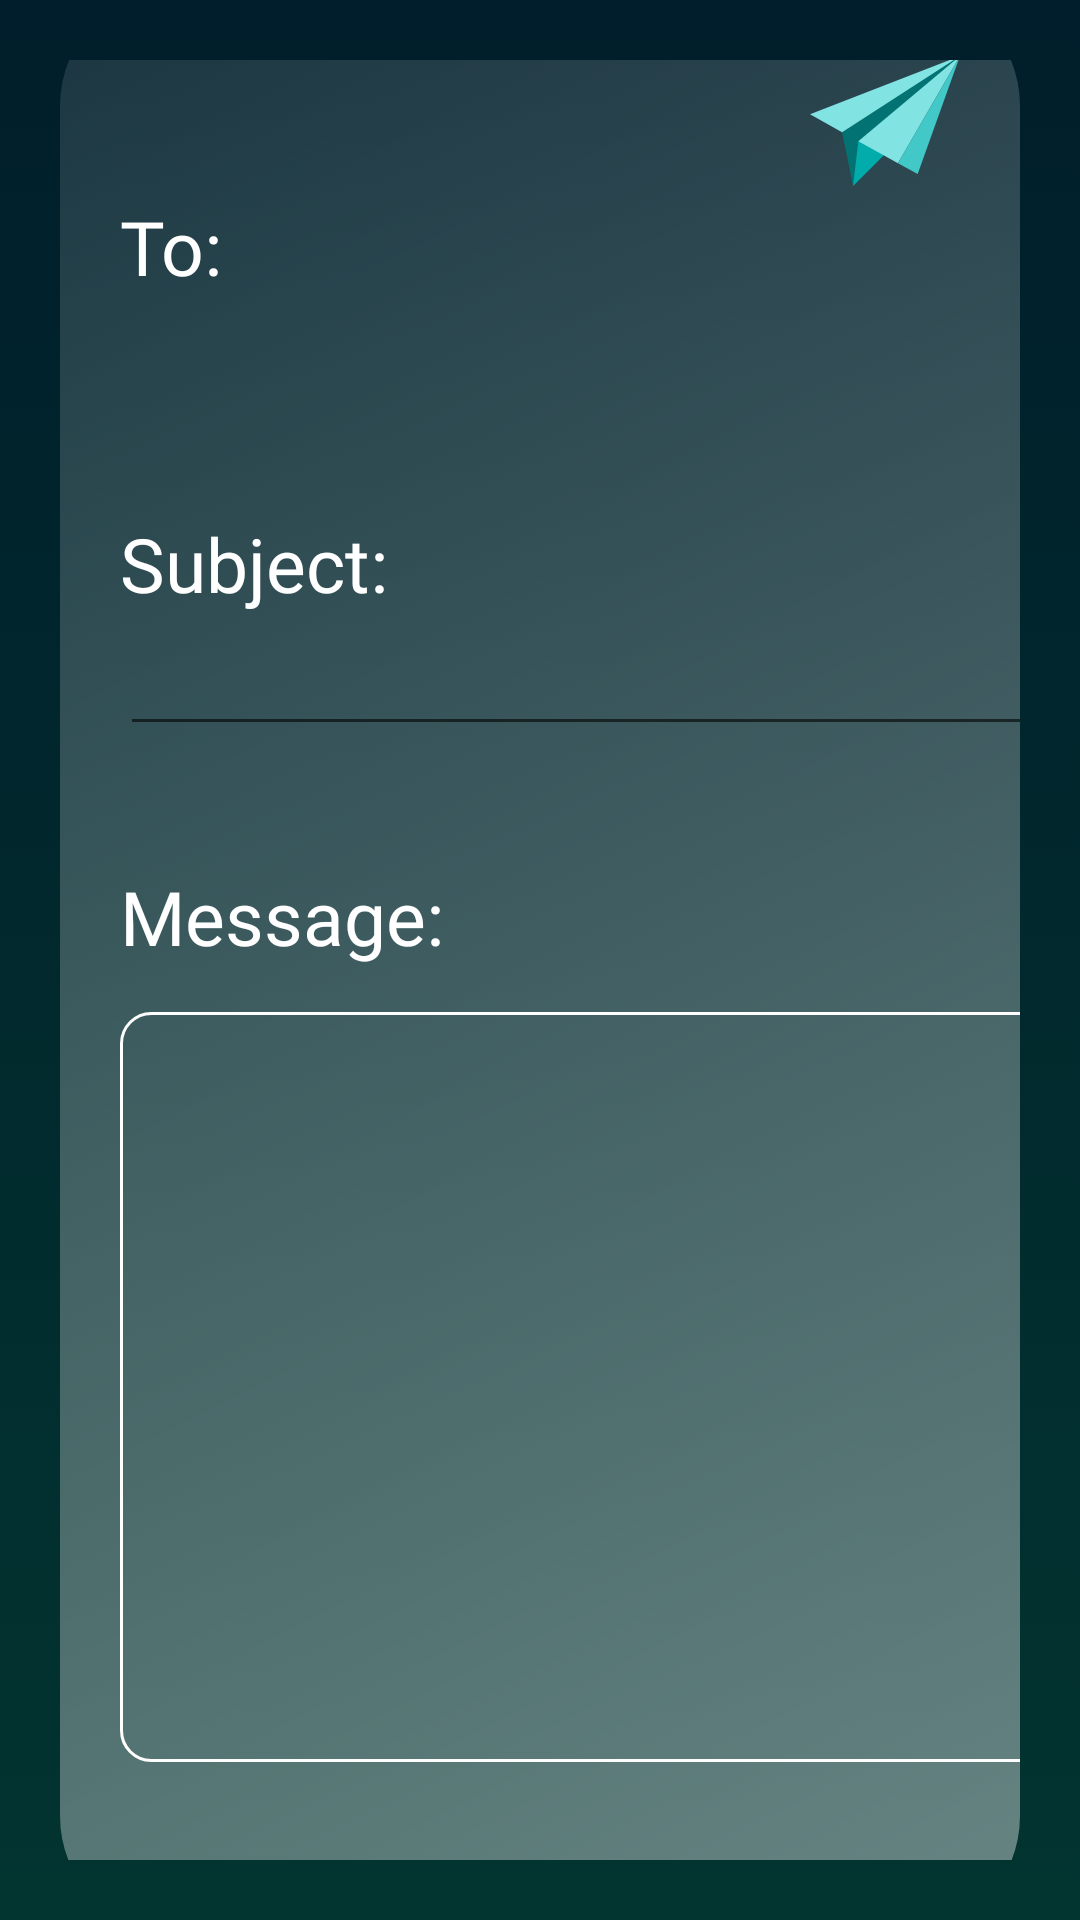

Named icons in this screenshot (1080px×1920px) and their centers, (x,y):
send: (885,121)
